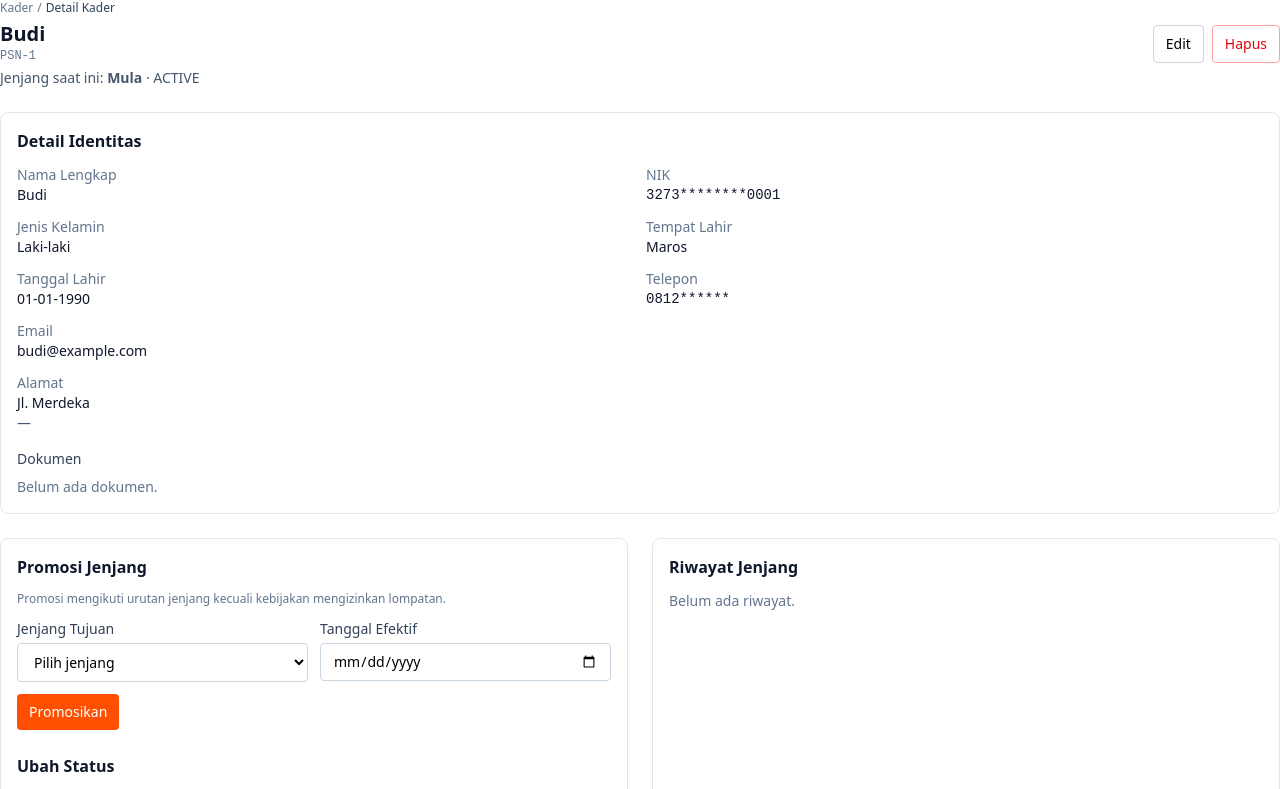
CadreDetailPage › enables the identity fields only after Edit and shows Simpan/Batal
Click the button "Edit" at x=1178, y=44, box left=1153, top=25, right=1204, bottom=63
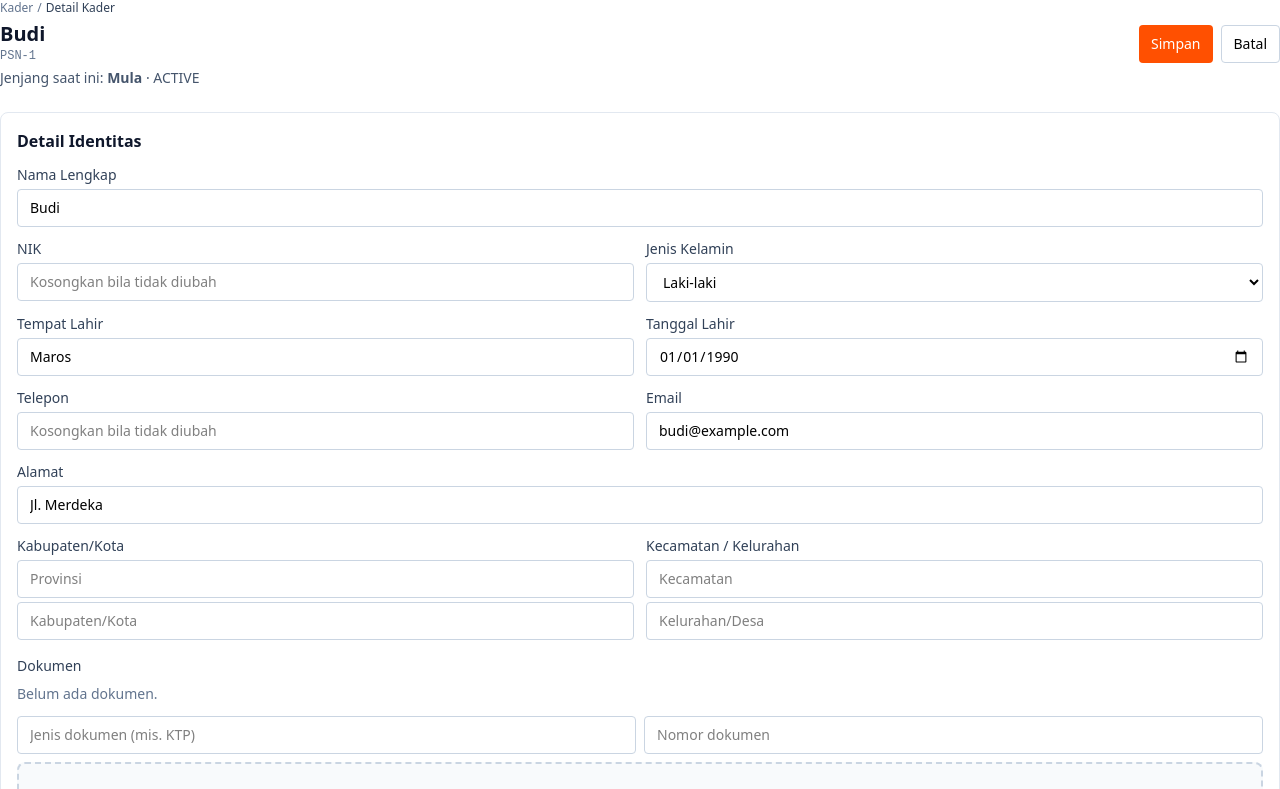
Expected: the field labelled "Nama Lengkap" is shown, left=17, top=189, right=1263, bottom=227
